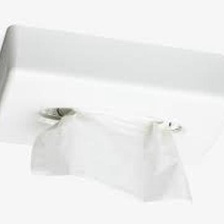plastic_box: (0, 19, 224, 162)
tissue: (22, 104, 203, 211)
